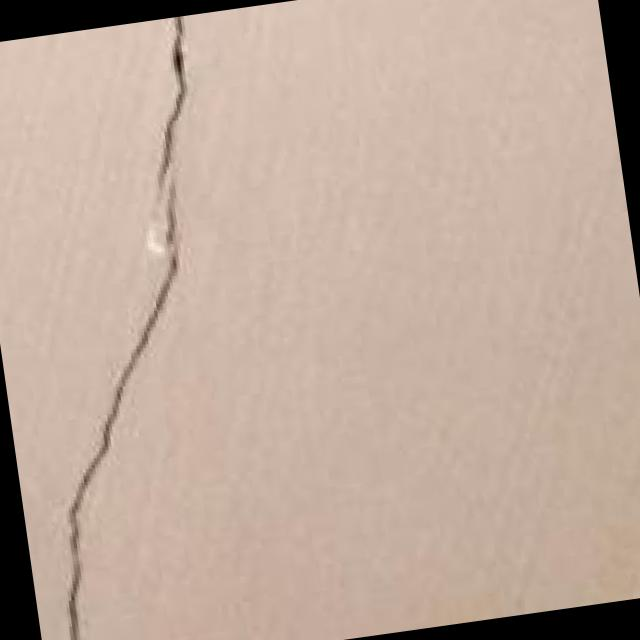crack: (0, 13, 291, 640)
